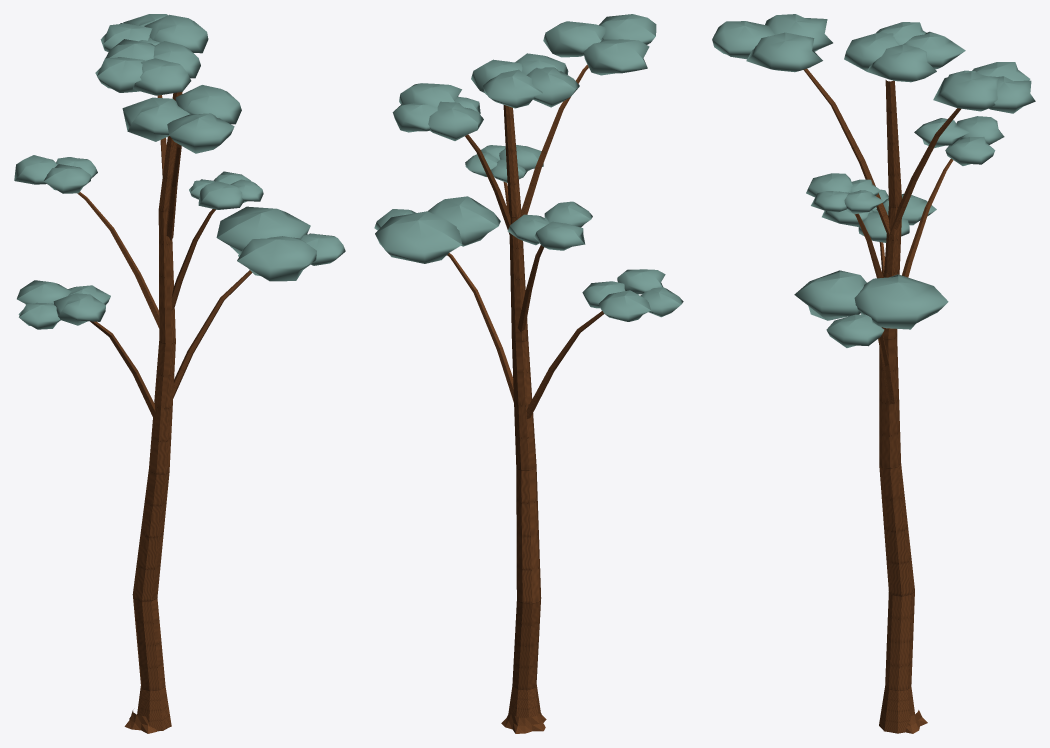
Rendered from scots-pine-mature.glb.
3 views of the same model, side by side, from view 1: azimuth 30°, elevation 25°; view 2: azimuth 150°, elevation 25°; view 3: azimuth 270°, elevation 25° (orthographic). The views are drawn at different scales.
Parts seen in each view (by area): view 1: scots-pine-mature; view 2: scots-pine-mature; view 3: scots-pine-mature.
Boxes of the visible parts, <box> form: scots-pine-mature: <box>14,14,345,733</box>; scots-pine-mature: <box>374,14,683,733</box>; scots-pine-mature: <box>712,14,1035,733</box>.
Size of the model in its own units: 8.79 by 17.88 by 7.63.
Materials: 2 (1 with a texture image).
